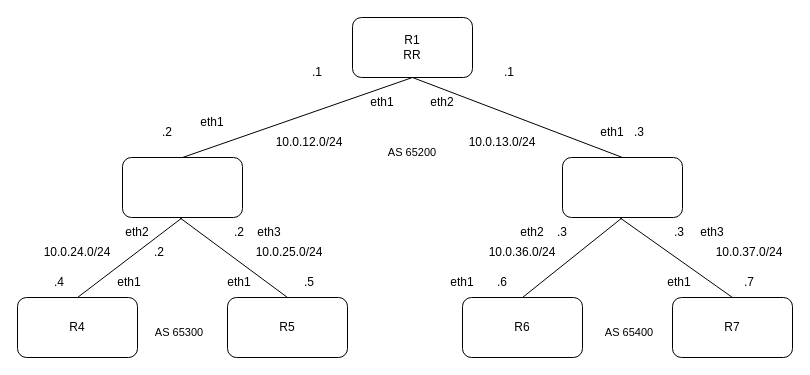
The diagram is 810 pixels wide and 375 high, and some of its shapes have lost their labels. Each missing label, with the centre of its shape:
"R2 RC" belongs at pixel 182 187.
"R3 RC" belongs at pixel 622 187.
